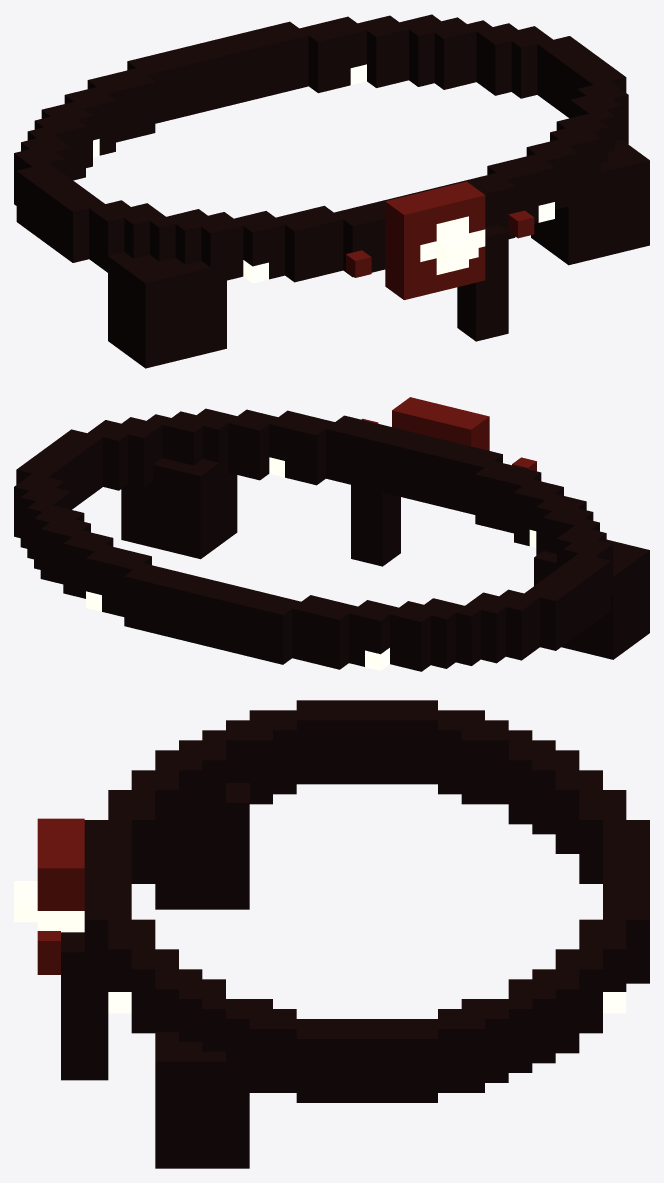
The model's file is mystic_masterwork_belt.glb.
The picture shows the model from 3 angles, top to bottom: view 1: azimuth 30°, elevation 25°; view 2: azimuth 150°, elevation 25°; view 3: azimuth 270°, elevation 25°; orthographic projection. The views are drawn at different scales.
Visible parts, largest first — view 1: mystic_masterwork_belt; view 2: mystic_masterwork_belt; view 3: mystic_masterwork_belt.
Boxes of the visible parts, x1=… form: mystic_masterwork_belt: x1=14, y1=14, x2=649, y2=368; mystic_masterwork_belt: x1=14, y1=397, x2=649, y2=671; mystic_masterwork_belt: x1=14, y1=700, x2=649, y2=1168.
Size of the model in its own units: 0.408 by 0.108 by 0.324.
